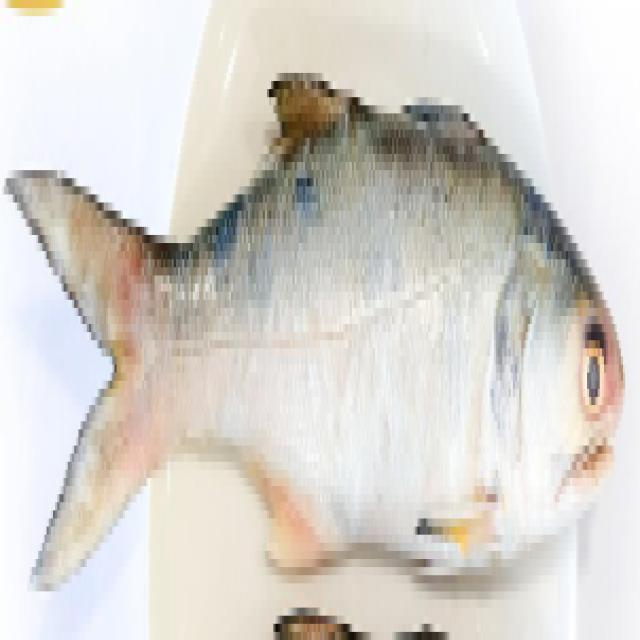Fourfinger-Threadfin: (0, 73, 632, 636)
